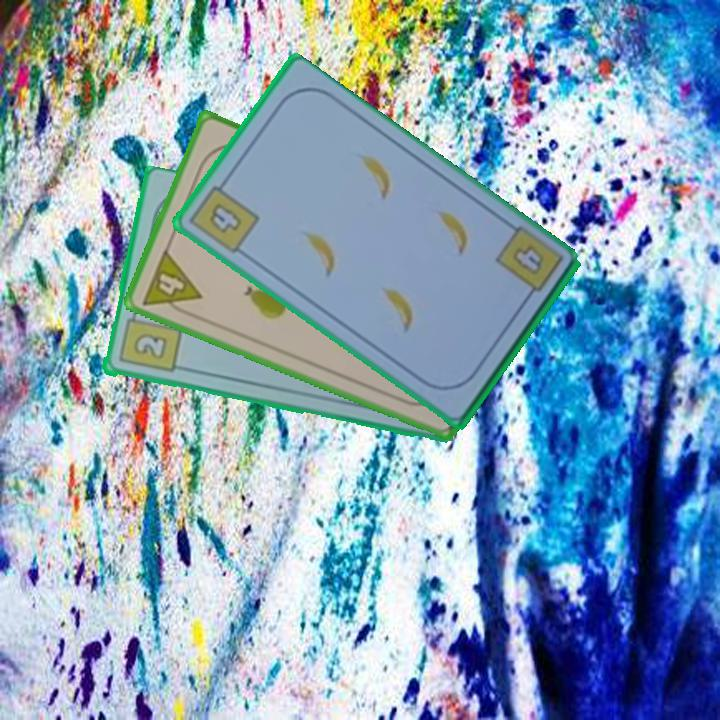2b: (115, 306, 184, 376)
4b: (185, 175, 262, 257), (508, 241, 547, 279)
4p: (138, 245, 205, 321)
